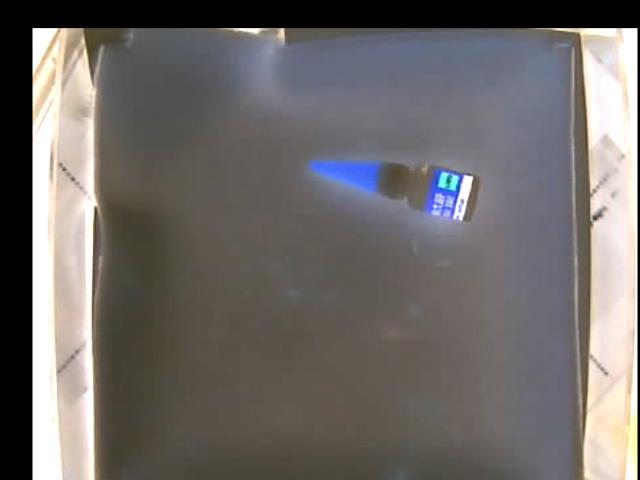Bottle: (310, 159, 479, 219)
